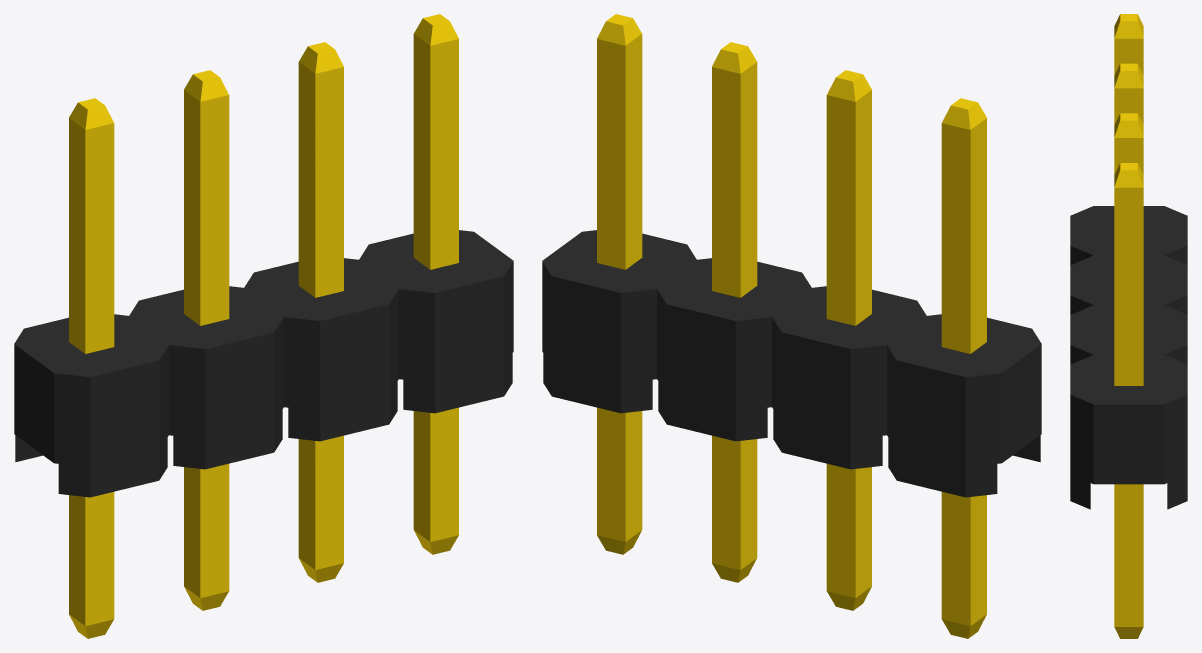
The model's file is PLS2-4.glb.
3 renders of one model, left to right at view 1: azimuth 30°, elevation 25°; view 2: azimuth 150°, elevation 25°; view 3: azimuth 270°, elevation 25°, orthographic. The views are drawn at different scales.
Visible parts, largest first — view 1: PLS2 (DS1025-01 CONNFLY); view 2: PLS2 (DS1025-01 CONNFLY); view 3: PLS2 (DS1025-01 CONNFLY).
Part boxes in pixels (x1,y1,x2,y2): PLS2 (DS1025-01 CONNFLY): [14, 14, 513, 638]; PLS2 (DS1025-01 CONNFLY): [542, 14, 1041, 638]; PLS2 (DS1025-01 CONNFLY): [1070, 14, 1187, 638].
Size of the model in its own units: 0.008 by 0.0088 by 0.002.
